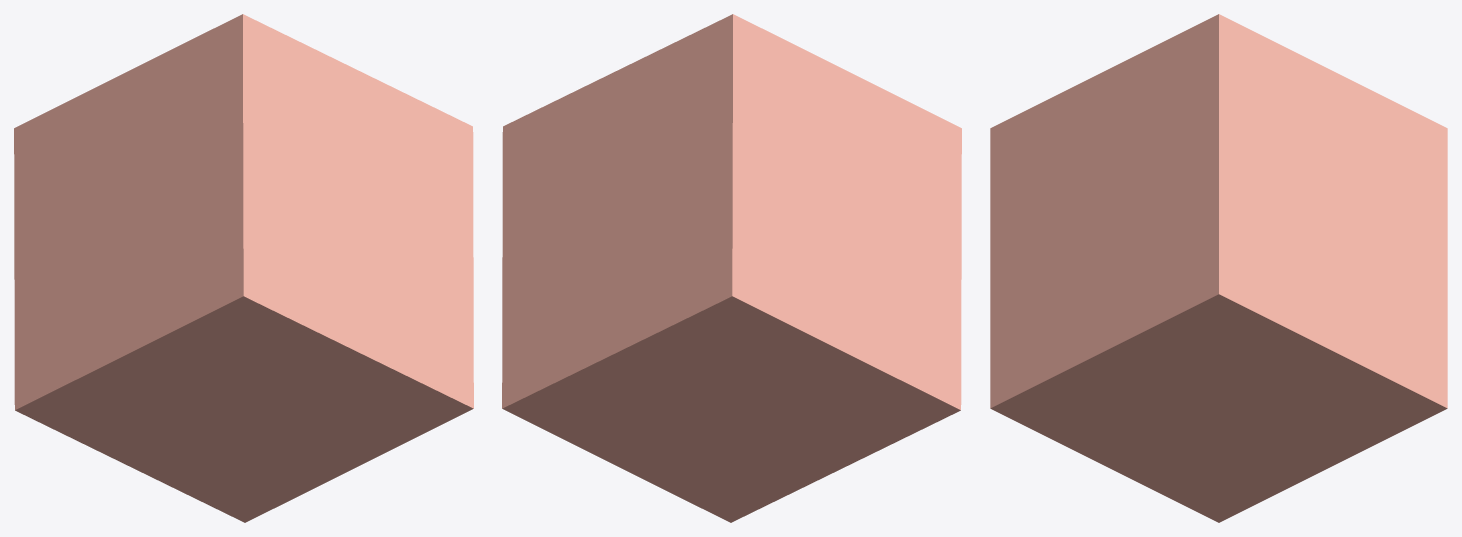
The model's file is spark.glb.
3 renders of one model, left to right at view 1: azimuth 30°, elevation 25°; view 2: azimuth 150°, elevation 25°; view 3: azimuth 270°, elevation 25°, orthographic.
Parts seen in each view (by area): view 1: Spark; view 2: Spark; view 3: Spark.
Part boxes in pixels (box(x1,y1,x2,y2)): Spark: box(14, 14, 473, 522); Spark: box(502, 14, 961, 522); Spark: box(990, 14, 1447, 522).
Bounding box in the file's own units: 0.2608 × 0.2771 × 0.2263.
